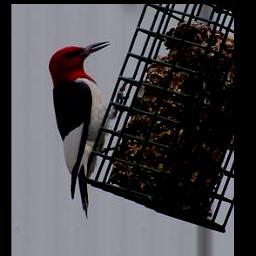Woodpecker: (47, 40, 127, 218)
